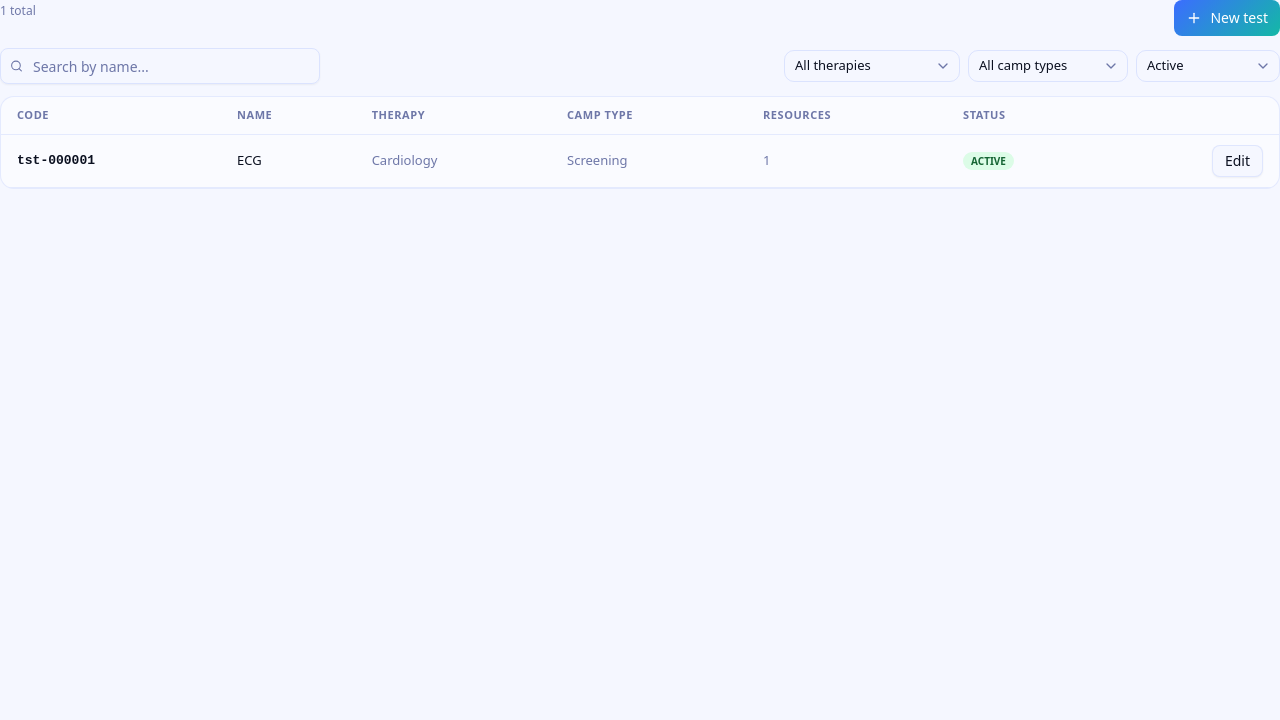
Test case: TestMasterTab › opens the create modal with modal state {open:true, testId:null} on "New test"
Click the button "New test" at [1227, 18], box [1174, 0, 1279, 36]
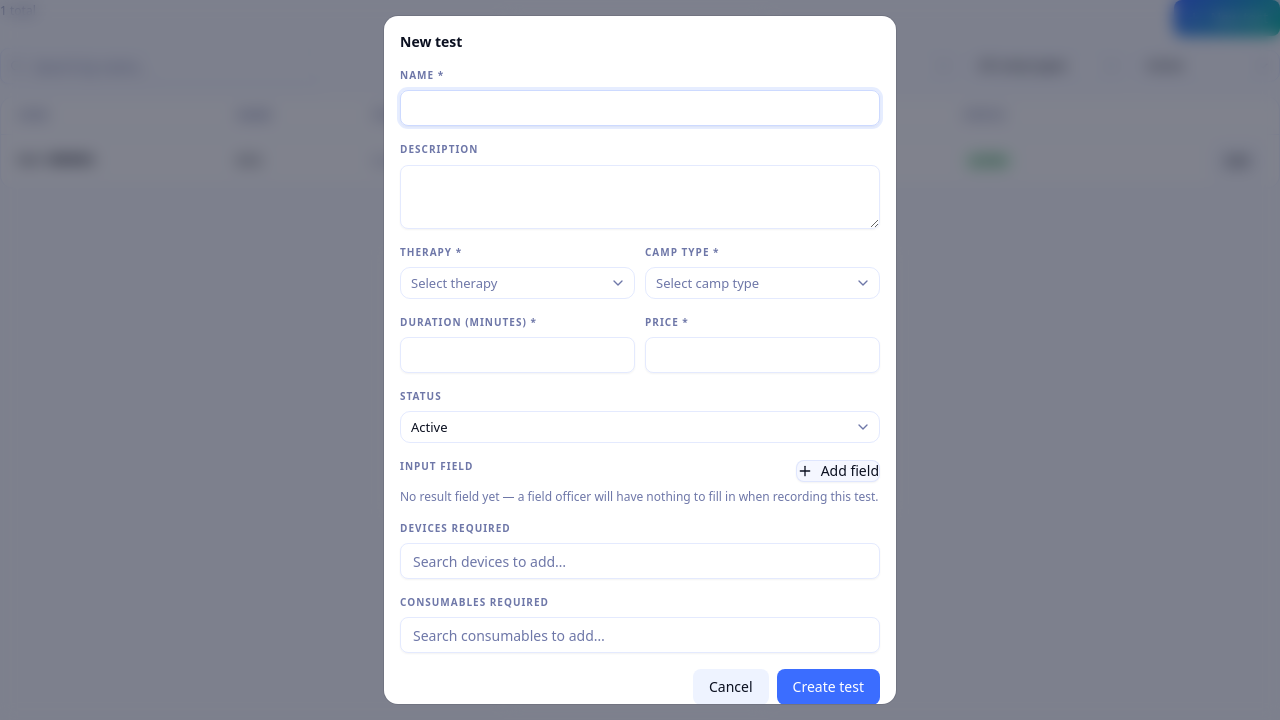
Expected: the heading "New test" is shown, [400, 32, 462, 51]
